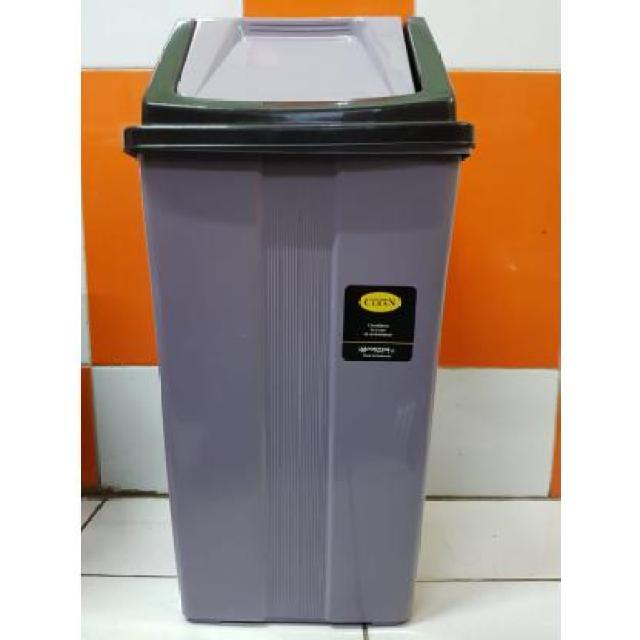garbage container: (118, 10, 487, 640)
